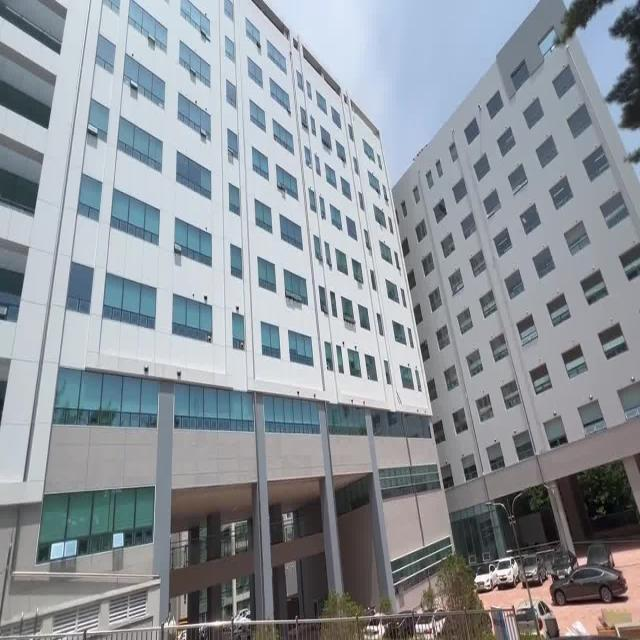building: (9, 12, 632, 594)
